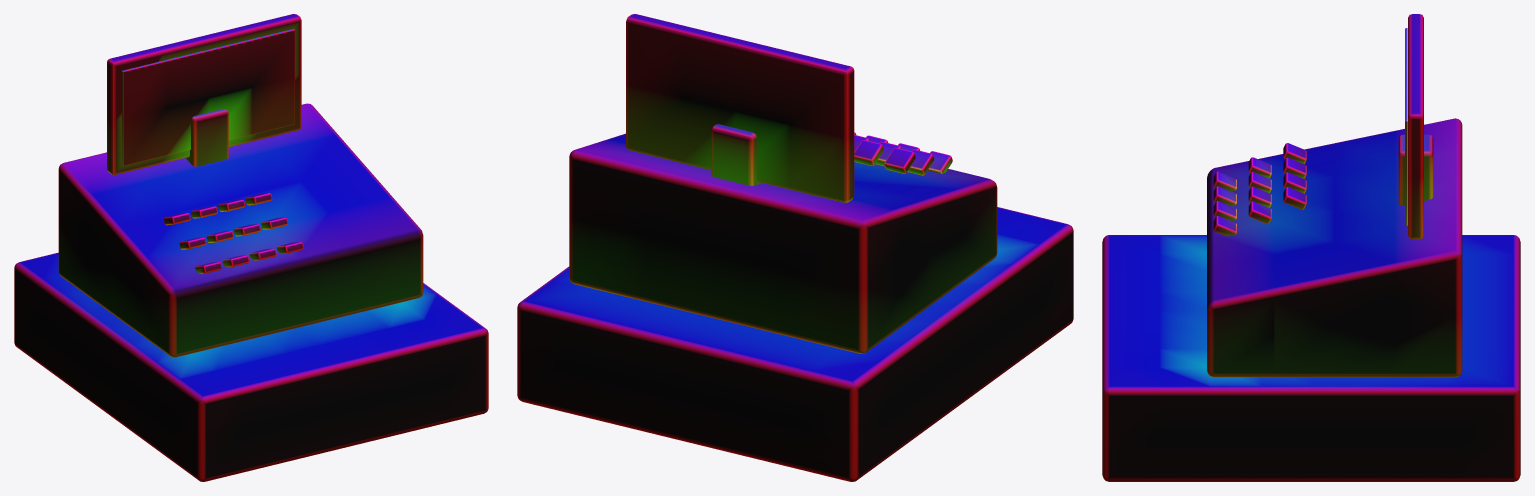
File: prop_register.fbx
3 views of the same model, side by side, from view 1: azimuth 30°, elevation 25°; view 2: azimuth 150°, elevation 25°; view 3: azimuth 270°, elevation 25° (orthographic). The views are drawn at different scales.
Parts seen in each view (by area): view 1: prop_register; view 2: prop_register; view 3: prop_register.
Part boxes in pixels (x1=…): prop_register: x1=14, y1=14, x2=488, y2=481; prop_register: x1=517, y1=14, x2=1073, y2=481; prop_register: x1=1102, y1=14, x2=1520, y2=481.
Bounding box in the file's own units: 0.32 × 0.325 × 0.36.
